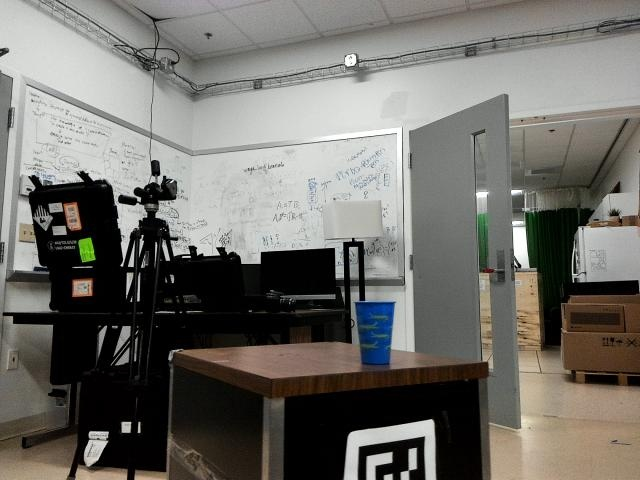water_cup: (351, 296, 398, 367)
